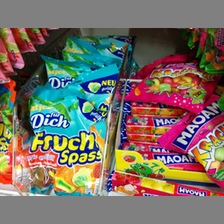candy: (23, 84, 109, 195), (124, 52, 213, 112)
